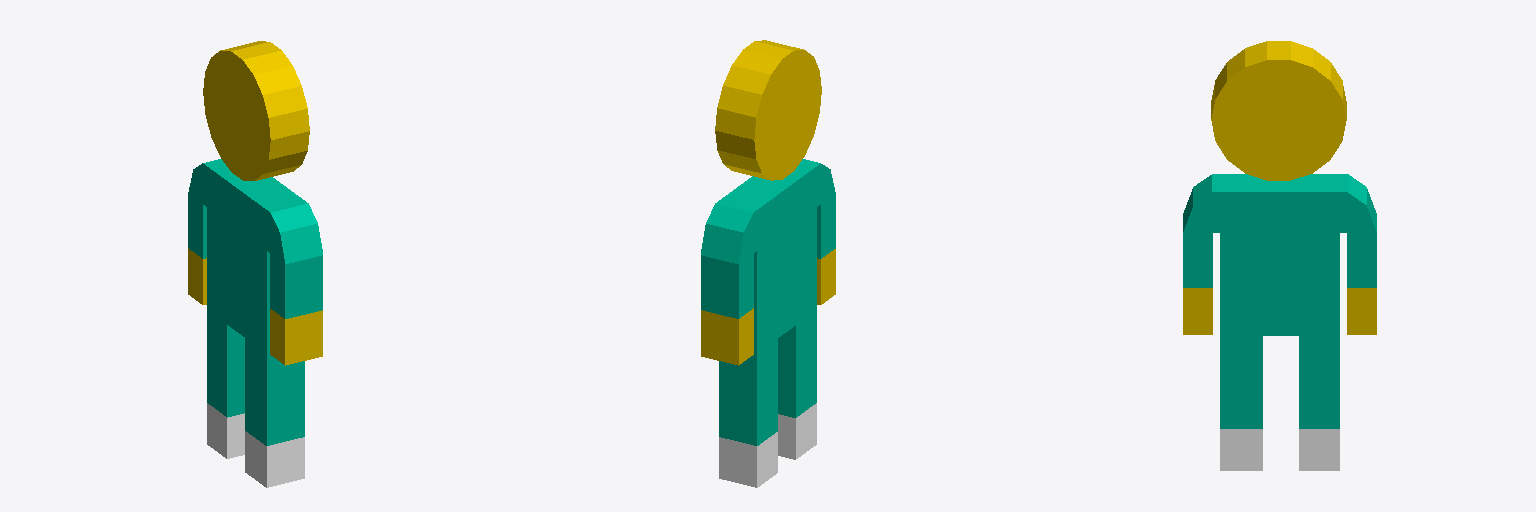
3 renders of one model, left to right at view 1: azimuth 30°, elevation 25°; view 2: azimuth 150°, elevation 25°; view 3: azimuth 270°, elevation 25°, orthographic.
Parts seen in each view (by area): view 1: Cube.002_Cube.000, Cylinder.000_Cylinder.001; view 2: Cube.002_Cube.000, Cylinder.000_Cylinder.001; view 3: Cube.002_Cube.000, Cylinder.000_Cylinder.001.
Boxes of the visible parts, x1=… form: Cube.002_Cube.000: x1=188, y1=159, x2=322, y2=487; Cylinder.000_Cylinder.001: x1=203, y1=41, x2=309, y2=180; Cube.002_Cube.000: x1=701, y1=159, x2=835, y2=487; Cylinder.000_Cylinder.001: x1=715, y1=40, x2=821, y2=180; Cube.002_Cube.000: x1=1183, y1=174, x2=1376, y2=470; Cylinder.000_Cylinder.001: x1=1211, y1=41, x2=1346, y2=180.
Bounding box in the file's own units: 0.5518 × 5.52 × 2.37.
2 materials, 2 textured.